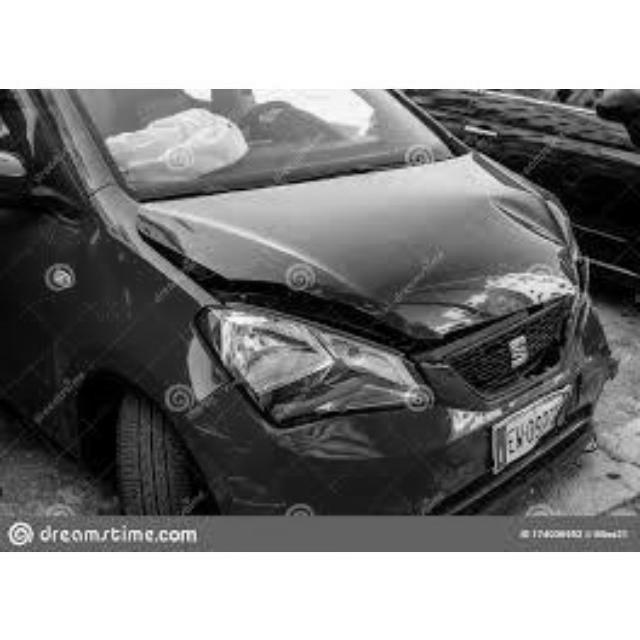bonnet-dent: (171, 160, 587, 341)
front-bumper-dent: (189, 408, 521, 514)
